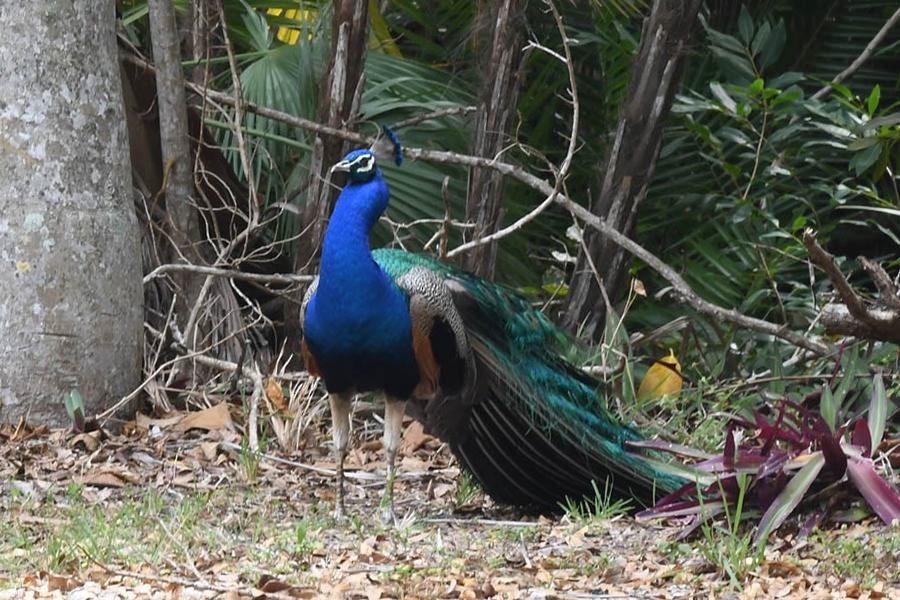peacock: (288, 108, 729, 521)
